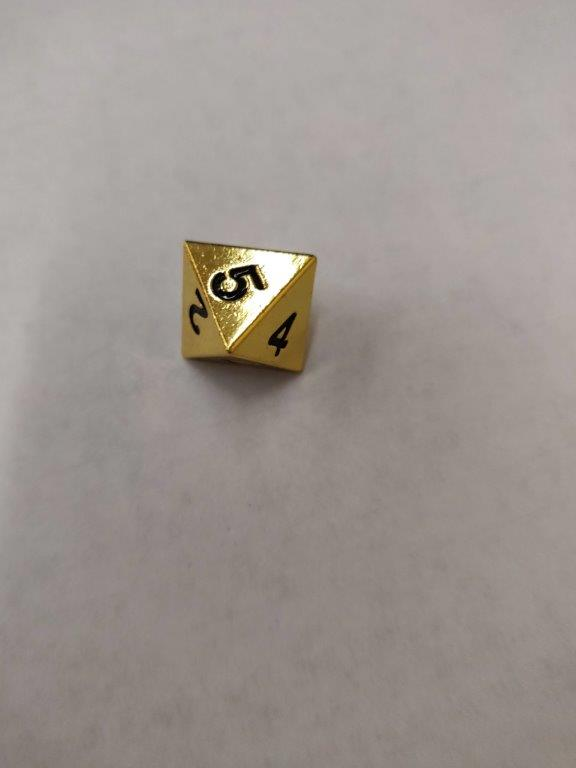d8-5: (172, 239, 324, 383)
